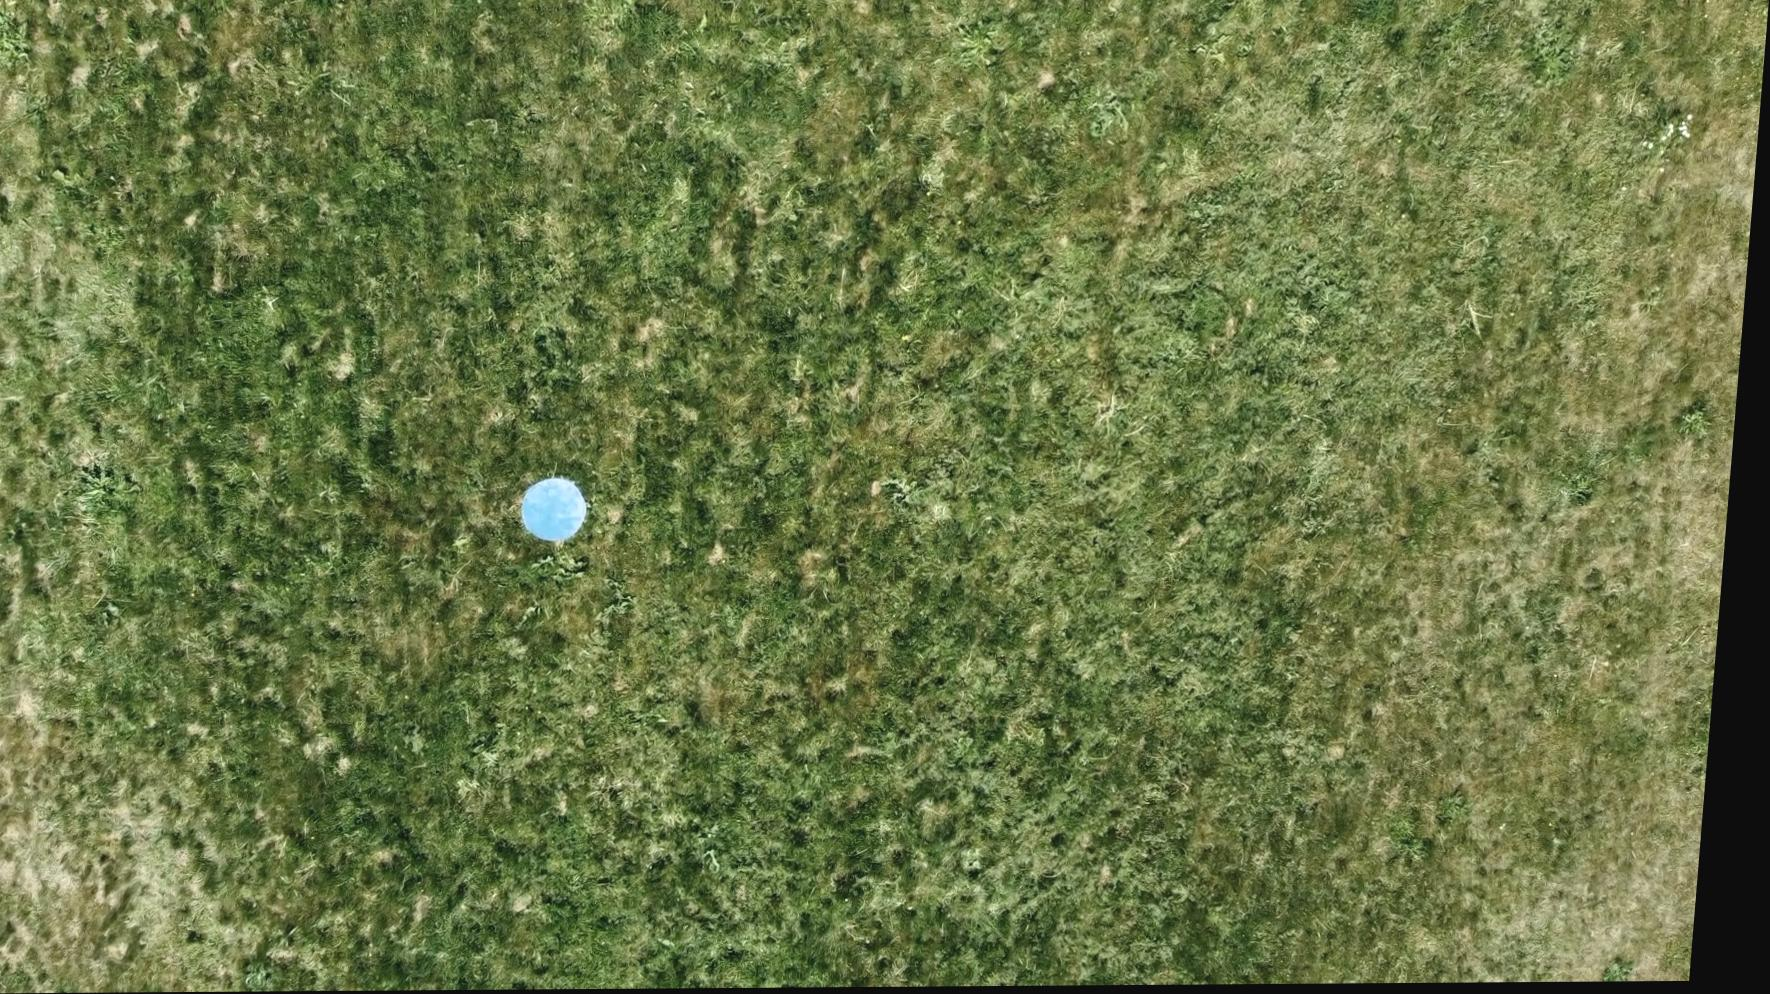Blue: (523, 474, 604, 544)
